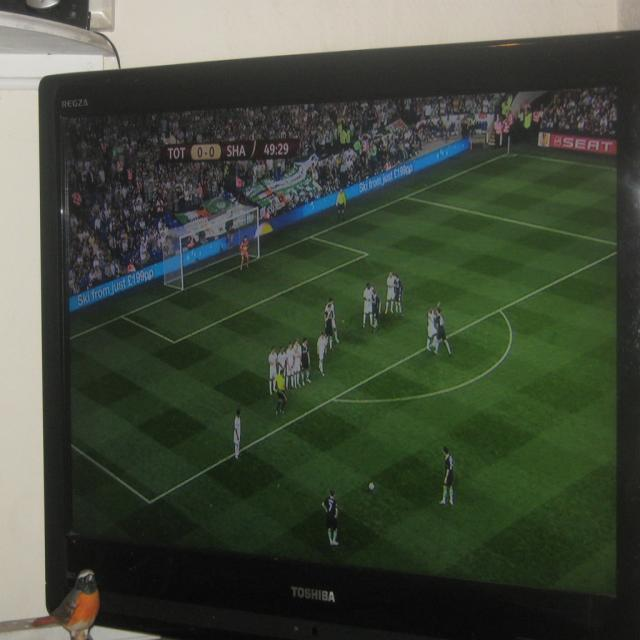ball: (369, 482, 375, 490)
